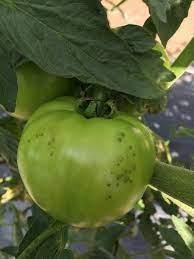tomato bacterial spot: (18, 97, 157, 230)
